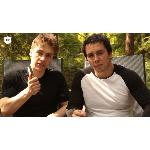Pisau: (25, 57, 44, 89)
